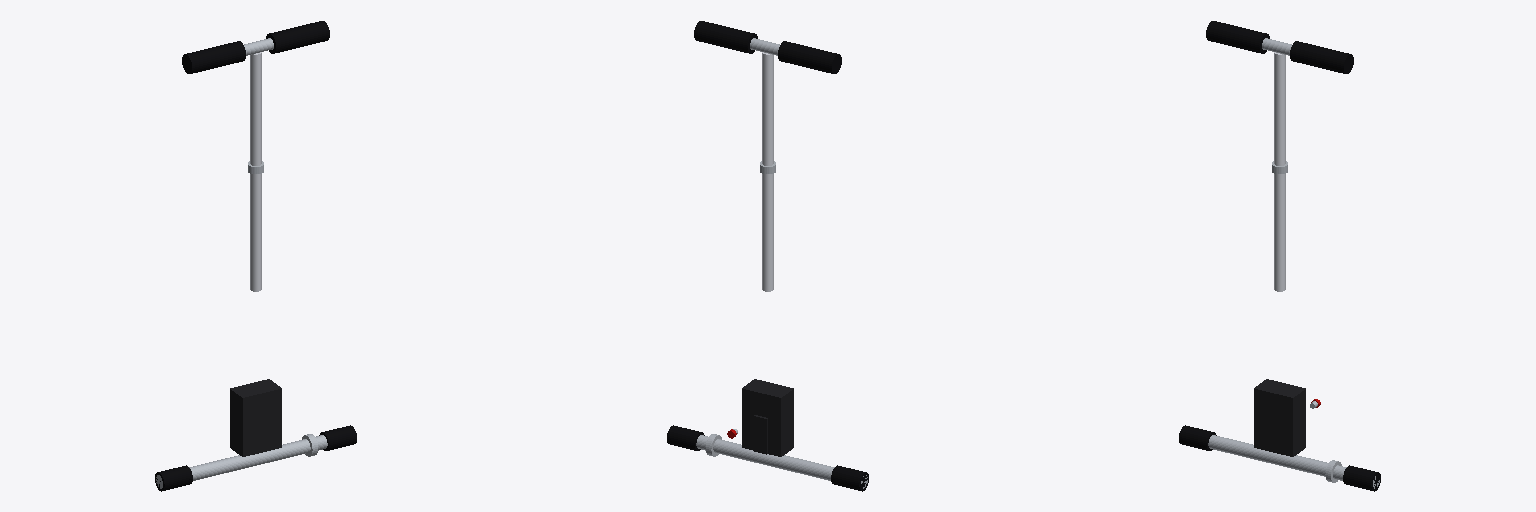
The robot description file, URDF, robot "industrial_floor_pump":
<robot name="industrial_floor_pump">
  <material name="powder_black">
    <color rgba="0.17 0.17 0.18 1" />
    </material>
  <material name="graphite">
    <color rgba="0.27 0.28 0.3 1" />
    </material>
  <material name="steel">
    <color rgba="0.72 0.74 0.77 1" />
    </material>
  <material name="chrome">
    <color rgba="0.84 0.85 0.88 1" />
    </material>
  <material name="rubber">
    <color rgba="0.09 0.09 0.1 1" />
    </material>
  <material name="signal_red">
    <color rgba="0.72 0.09 0.08 1" />
    </material>
  <link name="body">
    <visual name="guide_housing">
      <geometry>
        <mesh filename="assets/meshes/pump_guide_housing.obj" />
        </geometry>
      <material name="graphite">
        <color rgba="0.27 0.28 0.3 1" />
        </material>
      </visual>
    <visual name="support_spine">
      <origin xyz="0 0 0.087" rpy="0 0 0" />
      <geometry>
        <box size="0.07 0.04 0.1" />
        </geometry>
      <material name="powder_black">
        <color rgba="0.17 0.17 0.18 1" />
        </material>
      </visual>
    <visual name="gauge_mount">
      <origin xyz="0 0.02 0.068" rpy="0 0 0" />
      <geometry>
        <box size="0.024 0.009 0.06" />
        </geometry>
      <material name="powder_black">
        <color rgba="0.17 0.17 0.18 1" />
        </material>
      </visual>
    <visual name="barrel_shell">
      <geometry>
        <mesh filename="assets/meshes/pump_barrel_shell.obj" />
        </geometry>
      <material name="powder_black">
        <color rgba="0.17 0.17 0.18 1" />
        </material>
      </visual>
    <collision name="guide_housing">
      <geometry>
        <mesh filename="assets/meshes/pump_guide_housing.obj" />
        </geometry>
      </collision>
    <collision name="support_spine">
      <origin xyz="0 0 0.087" rpy="0 0 0" />
      <geometry>
        <box size="0.07 0.04 0.1" />
        </geometry>
      </collision>
    <collision name="gauge_mount">
      <origin xyz="0 0.02 0.068" rpy="0 0 0" />
      <geometry>
        <box size="0.024 0.009 0.06" />
        </geometry>
      </collision>
    <collision name="barrel_shell">
      <geometry>
        <mesh filename="assets/meshes/pump_barrel_shell.obj" />
        </geometry>
      </collision>
    </link>
  <link name="handle">
    <visual name="rod">
      <geometry>
        <cylinder radius="0.0085" length="0.4" />
        </geometry>
      <material name="chrome">
        <color rgba="0.84 0.85 0.88 1" />
        </material>
      </visual>
    <visual name="crossbar">
      <origin xyz="0 0 0.208" rpy="0 1.5708 0" />
      <geometry>
        <cylinder radius="0.009" length="0.24" />
        </geometry>
      <material name="steel">
        <color rgba="0.72 0.74 0.77 1" />
        </material>
      </visual>
    <visual name="rod_collar">
      <origin xyz="0 0 0.006" rpy="0 0 0" />
      <geometry>
        <cylinder radius="0.013" length="0.012" />
        </geometry>
      <material name="steel">
        <color rgba="0.72 0.74 0.77 1" />
        </material>
      </visual>
    <visual name="grip_0">
      <origin xyz="-0.074 0 0.208" rpy="0 1.5708 0" />
      <geometry>
        <cylinder radius="0.016" length="0.095" />
        </geometry>
      <material name="rubber">
        <color rgba="0.09 0.09 0.1 1" />
        </material>
      </visual>
    <visual name="grip_1">
      <origin xyz="0.074 0 0.208" rpy="0 1.5708 0" />
      <geometry>
        <cylinder radius="0.016" length="0.095" />
        </geometry>
      <material name="rubber">
        <color rgba="0.09 0.09 0.1 1" />
        </material>
      </visual>
    <collision name="rod">
      <geometry>
        <cylinder radius="0.0085" length="0.4" />
        </geometry>
      </collision>
    <collision name="crossbar">
      <origin xyz="0 0 0.208" rpy="0 1.5708 0" />
      <geometry>
        <cylinder radius="0.009" length="0.24" />
        </geometry>
      </collision>
    <collision name="rod_collar">
      <origin xyz="0 0 0.006" rpy="0 0 0" />
      <geometry>
        <cylinder radius="0.013" length="0.012" />
        </geometry>
      </collision>
    <collision name="grip_0">
      <origin xyz="-0.074 0 0.208" rpy="0 1.5708 0" />
      <geometry>
        <cylinder radius="0.016" length="0.095" />
        </geometry>
      </collision>
    <collision name="grip_1">
      <origin xyz="0.074 0 0.208" rpy="0 1.5708 0" />
      <geometry>
        <cylinder radius="0.016" length="0.095" />
        </geometry>
      </collision>
    </link>
  <link name="stabilizer_bar">
    <visual name="stabilizer_bar">
      <origin xyz="0 0 0" rpy="0 1.5708 0" />
      <geometry>
        <cylinder radius="0.011" length="0.34" />
        </geometry>
      <material name="steel">
        <color rgba="0.72 0.74 0.77 1" />
        </material>
      </visual>
    <visual name="foot_0">
      <origin xyz="-0.145 0 0" rpy="0 1.5708 0" />
      <geometry>
        <cylinder radius="0.015" length="0.05" />
        </geometry>
      <material name="rubber">
        <color rgba="0.09 0.09 0.1 1" />
        </material>
      </visual>
    <visual name="foot_1">
      <origin xyz="0.145 0 0" rpy="0 1.5708 0" />
      <geometry>
        <cylinder radius="0.015" length="0.05" />
        </geometry>
      <material name="rubber">
        <color rgba="0.09 0.09 0.1 1" />
        </material>
      </visual>
    <visual name="stop_collar">
      <origin xyz="0.095 0 0" rpy="0 1.5708 0" />
      <geometry>
        <cylinder radius="0.017" length="0.01" />
        </geometry>
      <material name="steel">
        <color rgba="0.72 0.74 0.77 1" />
        </material>
      </visual>
    <collision name="stabilizer_bar">
      <origin xyz="0 0 0" rpy="0 1.5708 0" />
      <geometry>
        <cylinder radius="0.011" length="0.34" />
        </geometry>
      </collision>
    <collision name="foot_0">
      <origin xyz="-0.145 0 0" rpy="0 1.5708 0" />
      <geometry>
        <cylinder radius="0.015" length="0.05" />
        </geometry>
      </collision>
    <collision name="foot_1">
      <origin xyz="0.145 0 0" rpy="0 1.5708 0" />
      <geometry>
        <cylinder radius="0.015" length="0.05" />
        </geometry>
      </collision>
    <collision name="stop_collar">
      <origin xyz="0.095 0 0" rpy="0 1.5708 0" />
      <geometry>
        <cylinder radius="0.017" length="0.01" />
        </geometry>
      </collision>
    </link>
  <link name="gauge">
    <visual name="gauge_body">
      <geometry>
        <mesh filename="assets/meshes/pump_gauge.obj" />
        </geometry>
      <material name="powder_black">
        <color rgba="0.17 0.17 0.18 1" />
        </material>
      </visual>
    <collision name="gauge_body">
      <geometry>
        <mesh filename="assets/meshes/pump_gauge.obj" />
        </geometry>
      </collision>
    </link>
  <link name="release_button">
    <visual name="button_stem">
      <origin xyz="0 -0.003 0" rpy="1.5708 0 0" />
      <geometry>
        <cylinder radius="0.0048" length="0.008" />
        </geometry>
      <material name="steel">
        <color rgba="0.72 0.74 0.77 1" />
        </material>
      </visual>
    <visual name="release_button">
      <origin xyz="0 0.004 0" rpy="1.5708 0 0" />
      <geometry>
        <cylinder radius="0.0065" length="0.006" />
        </geometry>
      <material name="signal_red">
        <color rgba="0.72 0.09 0.08 1" />
        </material>
      </visual>
    <collision name="button_stem">
      <origin xyz="0 -0.003 0" rpy="1.5708 0 0" />
      <geometry>
        <cylinder radius="0.0048" length="0.008" />
        </geometry>
      </collision>
    <collision name="release_button">
      <origin xyz="0 0.004 0" rpy="1.5708 0 0" />
      <geometry>
        <cylinder radius="0.0065" length="0.006" />
        </geometry>
      </collision>
    </link>
  <joint name="body_to_handle" type="prismatic">
    <origin xyz="0 0 0.504" rpy="0 0 0" />
    <parent link="body" />
    <child link="handle" />
    <axis xyz="0 0 1" />
    <limit effort="180" velocity="0.8" lower="-0.14" upper="0.06" />
    </joint>
  <joint name="body_to_stabilizer_bar" type="prismatic">
    <origin xyz="0 0 0.019" rpy="0 0 0" />
    <parent link="body" />
    <child link="stabilizer_bar" />
    <axis xyz="1 0 0" />
    <limit effort="50" velocity="0.25" lower="0" upper="0.1" />
    </joint>
  <joint name="body_to_gauge" type="fixed">
    <origin xyz="0 0.0245 0.068" rpy="0 0 0" />
    <parent link="body" />
    <child link="gauge" />
    </joint>
  <joint name="gauge_to_release_button" type="prismatic">
    <origin xyz="0.02 0.047 0.018" rpy="0 0 0" />
    <parent link="gauge" />
    <child link="release_button" />
    <axis xyz="0 1 0" />
    <limit effort="4" velocity="0.05" lower="-0.004" upper="0" />
    </joint>
  </robot>

--- Facts derived from the render (not from the file) ---
Views: 3 orthographic renders of the robot side by side, from view 1: azimuth 30°, elevation 25°; view 2: azimuth 150°, elevation 25°; view 3: azimuth 330°, elevation 25°.
Model industrial_floor_pump with 5 links and 4 joints (3 prismatic, 1 fixed), rooted at body, posed all joints at 0.
Links seen in each view (by area): view 1: handle, body, stabilizer_bar; view 2: handle, body, stabilizer_bar; view 3: handle, body, stabilizer_bar.
Boxes of the visible links, x1,y1,x2,y2 form: handle: [182, 21, 329, 291]; body: [230, 379, 281, 456]; stabilizer_bar: [155, 425, 356, 491]; handle: [694, 21, 841, 291]; body: [742, 379, 793, 456]; stabilizer_bar: [667, 425, 868, 491]; handle: [1206, 21, 1353, 291]; body: [1254, 379, 1305, 456]; stabilizer_bar: [1179, 425, 1380, 491].
Bounding box of the posed robot: 0.34 × 0.0985 × 0.726 m (x, y, z).
Meshes: 3 distinct files referenced, 0 mesh visuals loaded (none loaded); not drawn: 3 (reference not matched to a file when rendering).
